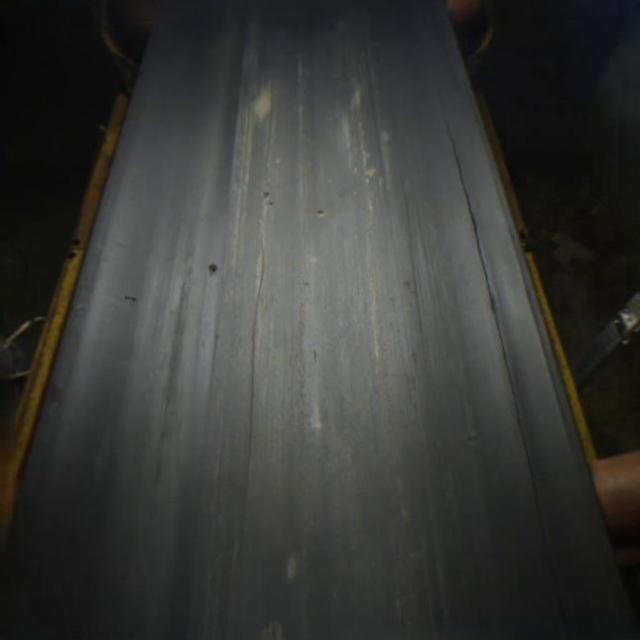Hole: (207, 262, 220, 276)
Puncture: (312, 207, 326, 219)
Tear: (437, 114, 549, 495)
